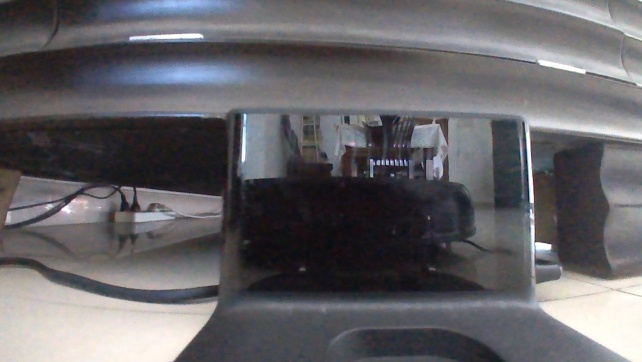charger: (163, 100, 631, 361)
wire: (0, 250, 220, 306), (0, 175, 143, 231), (150, 200, 226, 219)
